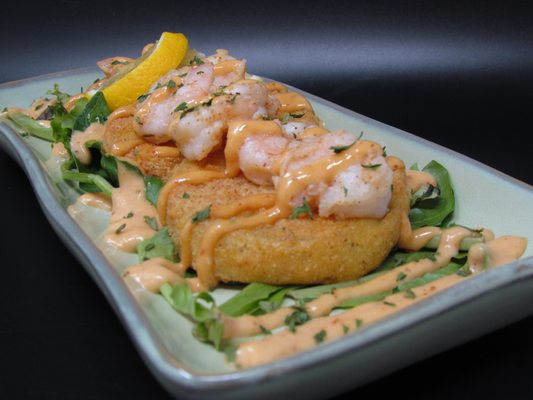sushi: (0, 29, 520, 400)
